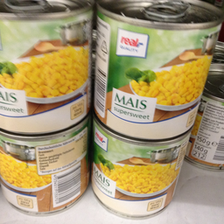corn: (94, 1, 223, 142), (1, 1, 93, 137), (90, 119, 193, 218), (1, 130, 91, 214)
